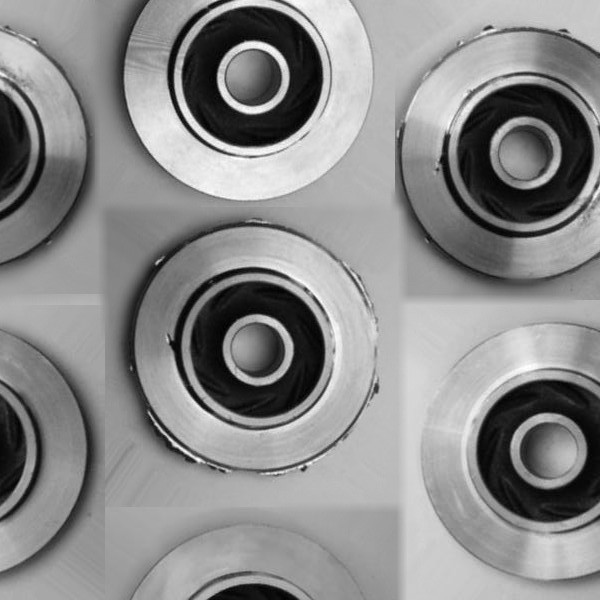pump_impeller: (126, 219, 381, 478), (115, 0, 375, 201), (397, 26, 600, 283), (417, 322, 600, 583), (1, 327, 91, 573), (0, 24, 90, 267), (127, 525, 368, 600)
